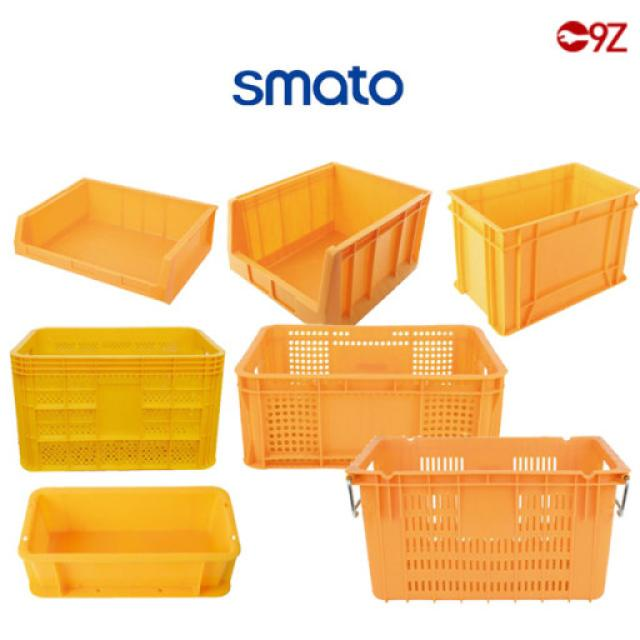basket: (348, 437, 631, 601), (211, 145, 432, 342), (236, 326, 507, 469), (9, 324, 227, 472), (7, 168, 220, 309), (18, 486, 240, 598)
